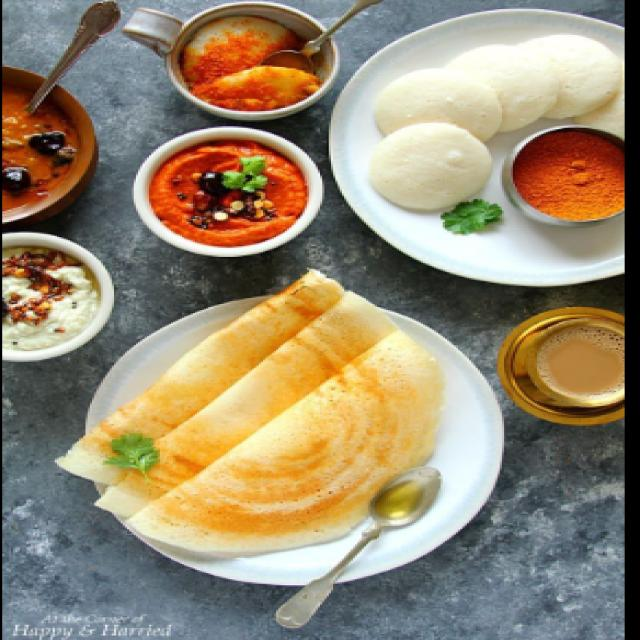dosa: (91, 297, 458, 565)
